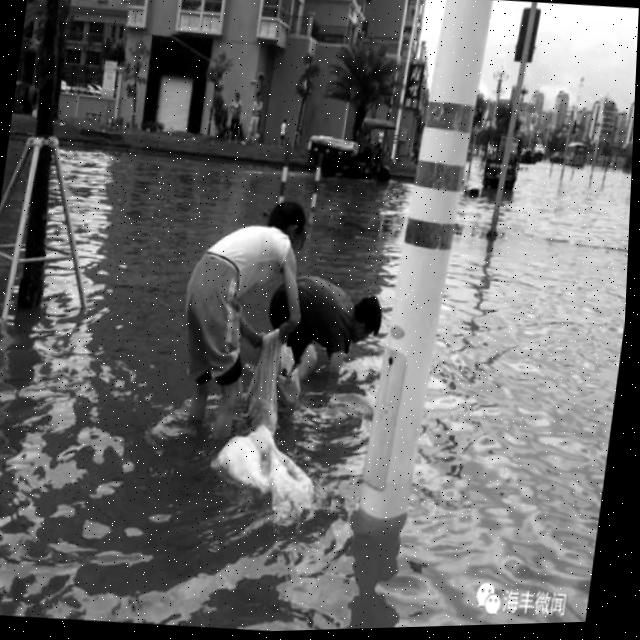civilian: (151, 168, 312, 449), (240, 225, 394, 417), (241, 87, 268, 151), (222, 88, 250, 147), (272, 111, 299, 149)
